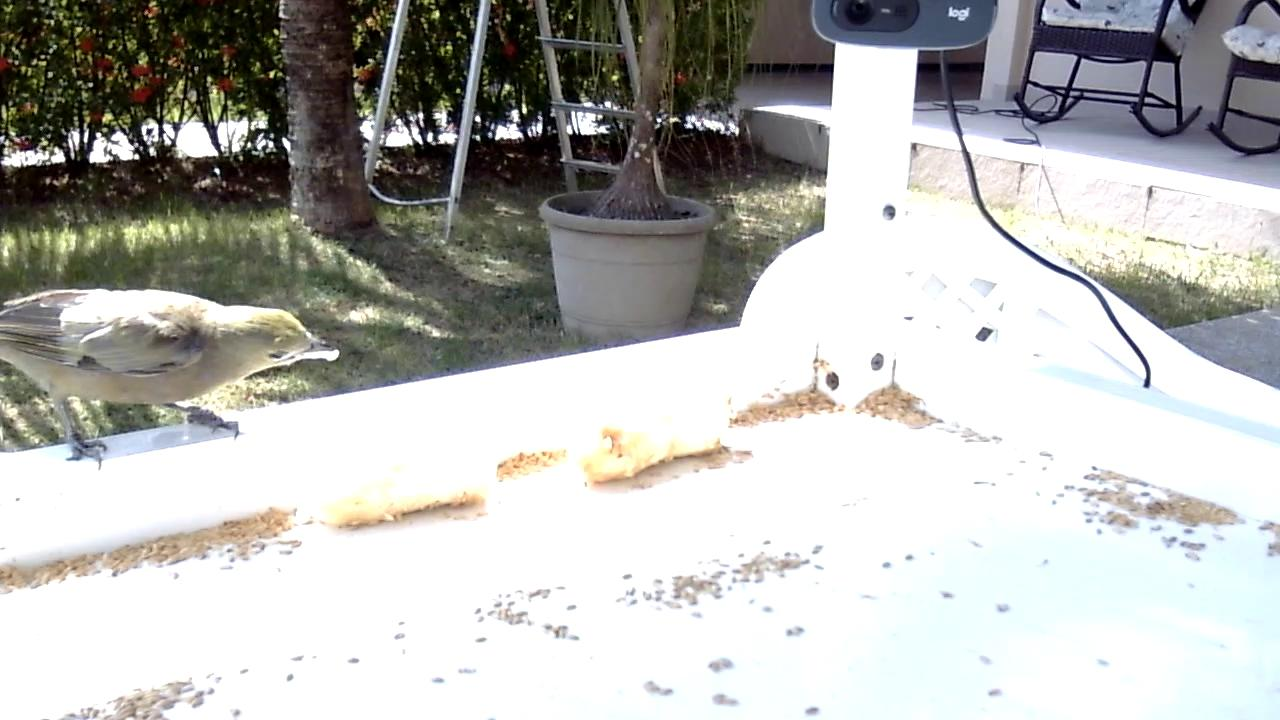sanhaco_do_coqueiro: (1, 285, 344, 473)
